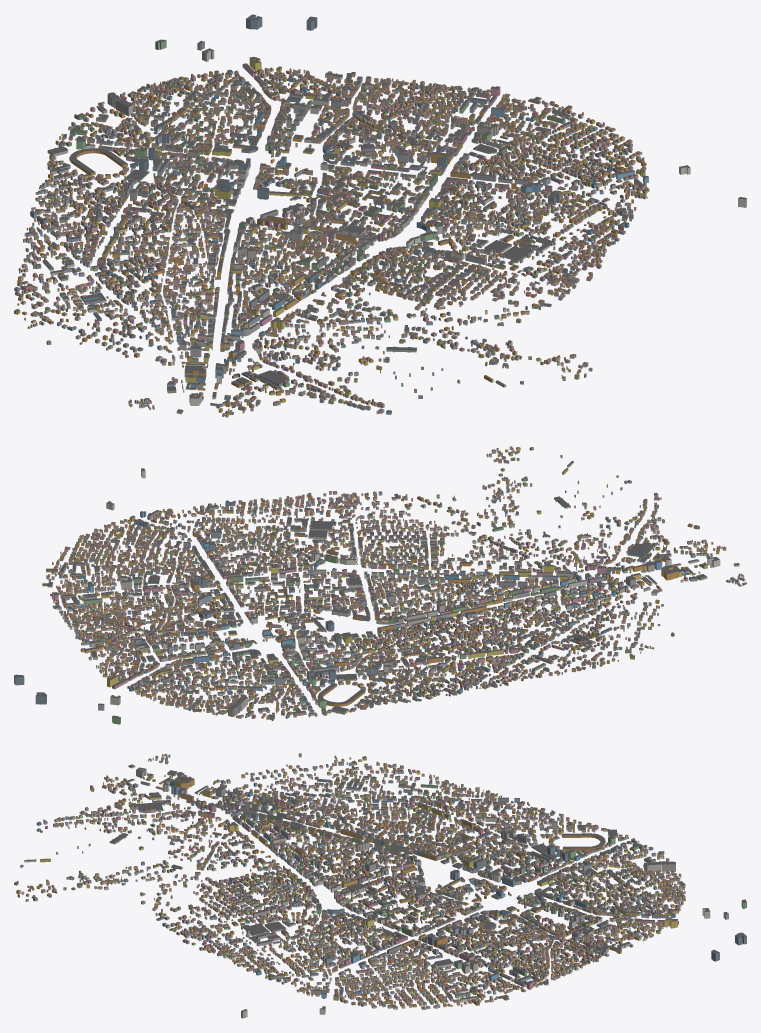
File: buildings.glb
The picture shows the model from 3 angles, top to bottom: view 1: azimuth 30°, elevation 25°; view 2: azimuth 150°, elevation 25°; view 3: azimuth 270°, elevation 25°; orthographic projection. The views are drawn at different scales.
Parts seen in each view (by area): view 1: chunk_3_-1, chunk_2_0, chunk_-1_0, chunk_2_-3, chunk_-2_-1, chunk_-1_-3, chunk_1_-1, chunk_-3_0, chunk_2_-2, chunk_0_2, chunk_-1_-4, chunk_-1_1 (+51 smaller); view 2: chunk_-2_-1, chunk_-3_1, chunk_-2_0, chunk_-2_1, chunk_2_-3, chunk_-3_-2, chunk_3_-1, chunk_-1_-2, chunk_-1_-3, chunk_0_-4, chunk_-3_0, chunk_1_1 (+51 smaller); view 3: chunk_3_-1, chunk_-1_-3, chunk_-2_0, chunk_2_-3, chunk_-2_-1, chunk_1_-4, chunk_2_0, chunk_1_-1, chunk_-2_1, chunk_-3_1, chunk_2_-2, chunk_-1_0 (+50 smaller).
Boxes of the visible parts, x1,y1,x2,y2 form: chunk_3_-1: (473,120,579,165); chunk_2_0: (441,163,552,211); chunk_-1_0: (244,215,344,261); chunk_2_-3: (324,78,429,123); chunk_-2_-1: (131,201,230,250); chunk_-1_-3: (124,128,215,176); chunk_1_-1: (335,146,437,200); chunk_-3_0: (98,248,205,297); chunk_2_-2: (366,107,470,149); chunk_0_2: (385,256,490,303); chunk_-1_-4: (74,98,185,145); chunk_-1_1: (278,245,386,290); chunk_-2_-1: (372,622,463,660); chunk_-3_1: (495,585,589,625); chunk_-2_0: (404,594,491,635); chunk_-2_1: (443,571,531,611); chunk_2_-3: (75,612,161,652); chunk_-3_-2: (397,656,488,696); chunk_3_-1: (82,549,171,589); chunk_-1_-2: (282,630,370,666); chunk_-1_-3: (246,657,339,694); chunk_0_-4: (158,665,243,705); chunk_-3_0: (464,612,555,650); chunk_1_1: (269,530,354,569); chunk_3_-1: (403,960,478,992); chunk_-1_-3: (530,849,600,883); chunk_-2_0: (337,825,410,856); chunk_2_-3: (532,934,602,964); chunk_-2_-1: (401,825,474,856); chunk_1_-4: (595,906,665,936); chunk_2_0: (338,931,407,966); chunk_1_-1: (399,905,474,938); chunk_-2_1: (271,824,340,856); chunk_-3_1: (272,799,341,829); chunk_2_-2: (466,934,536,964); chunk_-1_0: (338,853,406,882).
Size of the model in its own units: 2416 by 76.63 by 2827.
